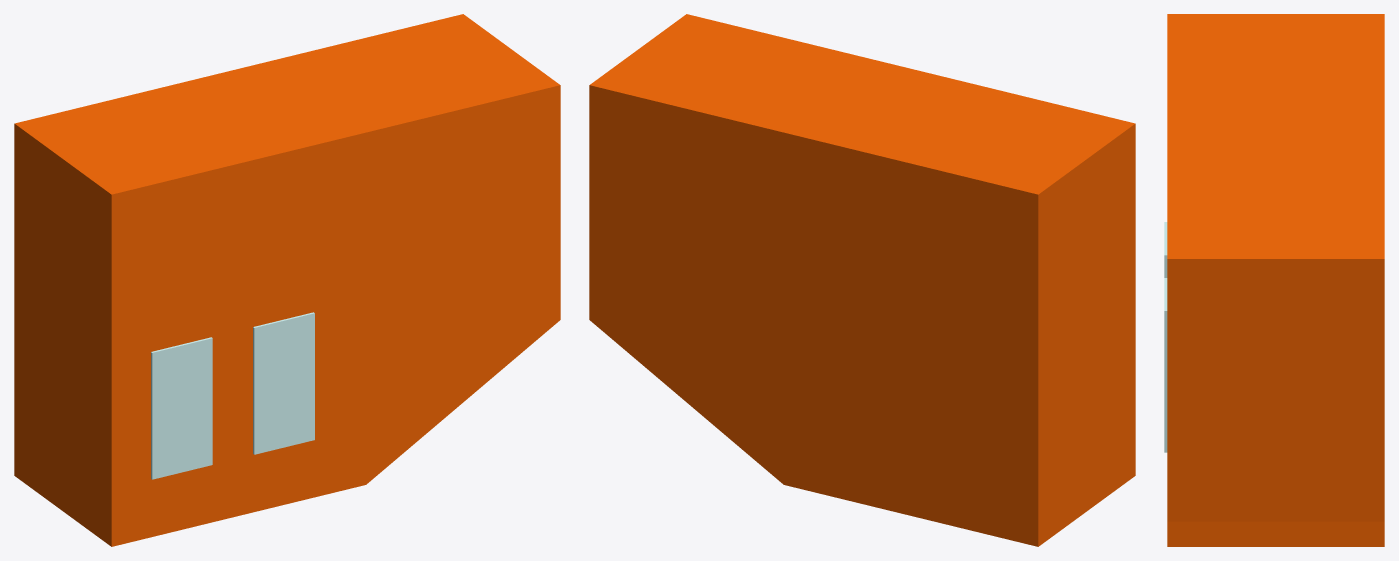
3 renders of one model, left to right at view 1: azimuth 30°, elevation 25°; view 2: azimuth 150°, elevation 25°; view 3: azimuth 270°, elevation 25°, orthographic. The views are drawn at different scales.
Parts seen in each view (by area): view 1: Mesh_0.007; view 2: Mesh_0.007; view 3: Mesh_0.007.
Part boxes in pixels (x1=…): Mesh_0.007: x1=14, y1=14, x2=560, y2=546; Mesh_0.007: x1=589, y1=14, x2=1135, y2=546; Mesh_0.007: x1=1164, y1=14, x2=1384, y2=546.
Bounding box in the file's own units: 4 × 3 × 1.52.
